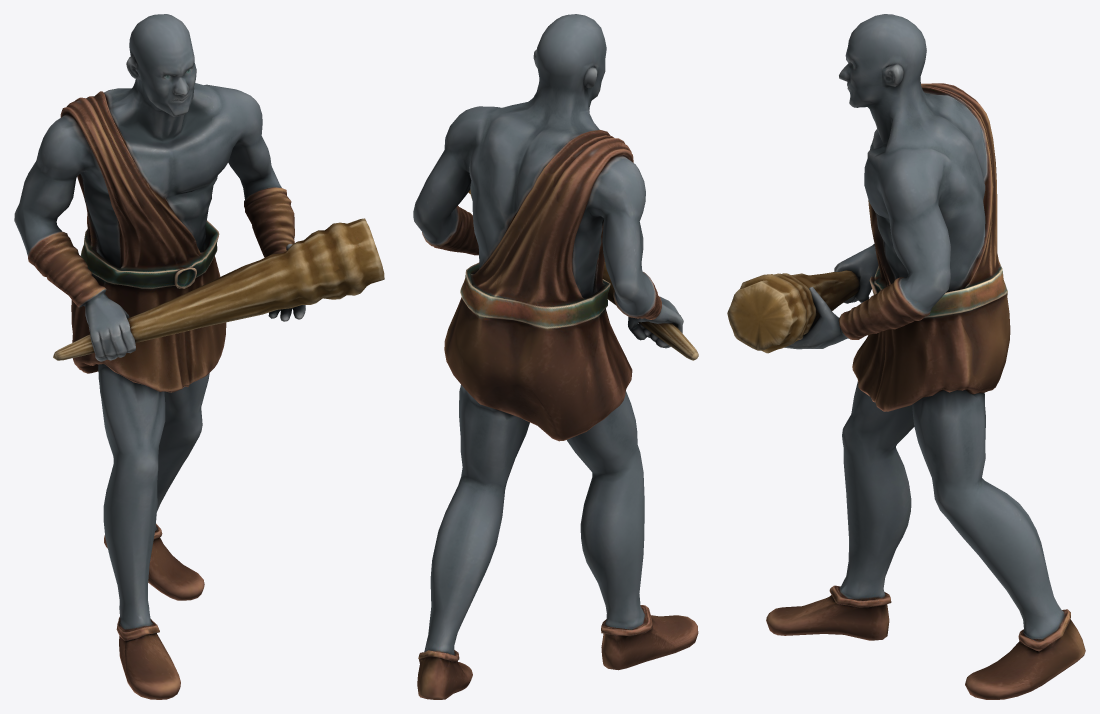
File: MZ4250 - Stone Giant Male.glb
The picture shows the model from 3 angles, left to right: view 1: azimuth 30°, elevation 25°; view 2: azimuth 150°, elevation 25°; view 3: azimuth 270°, elevation 25°; orthographic projection. The views are drawn at different scales.
Parts seen in each view (by area): view 1: body_low.001, mace_low.001; view 2: body_low.001, mace_low.001; view 3: body_low.001, mace_low.001.
Boxes of the visible parts, <box> form: body_low.001: <box>14,14,305,699</box>; mace_low.001: <box>53,218,384,360</box>; body_low.001: <box>413,14,698,699</box>; mace_low.001: <box>468,189,698,360</box>; body_low.001: <box>766,14,1085,699</box>; mace_low.001: <box>727,270,859,353</box>.
Bounding box in the file's own units: 3.15 × 6.84 × 3.47.
Materials: 1 (1 with a texture image).
